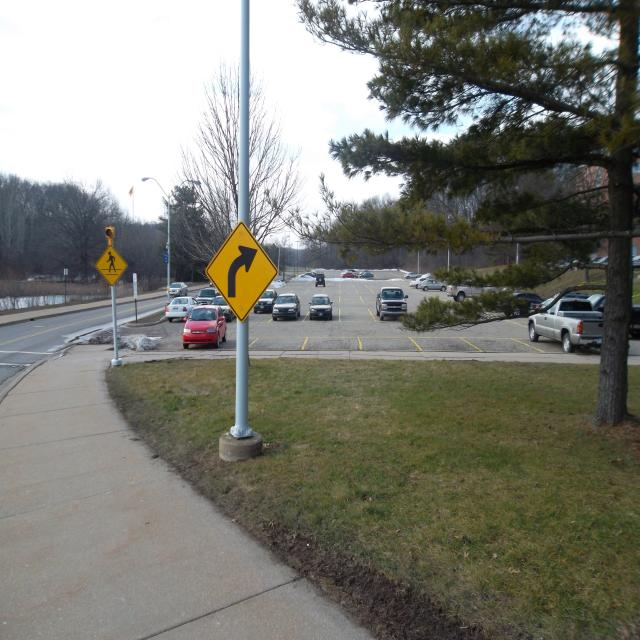warning: (204, 218, 283, 324), (94, 241, 130, 289)
